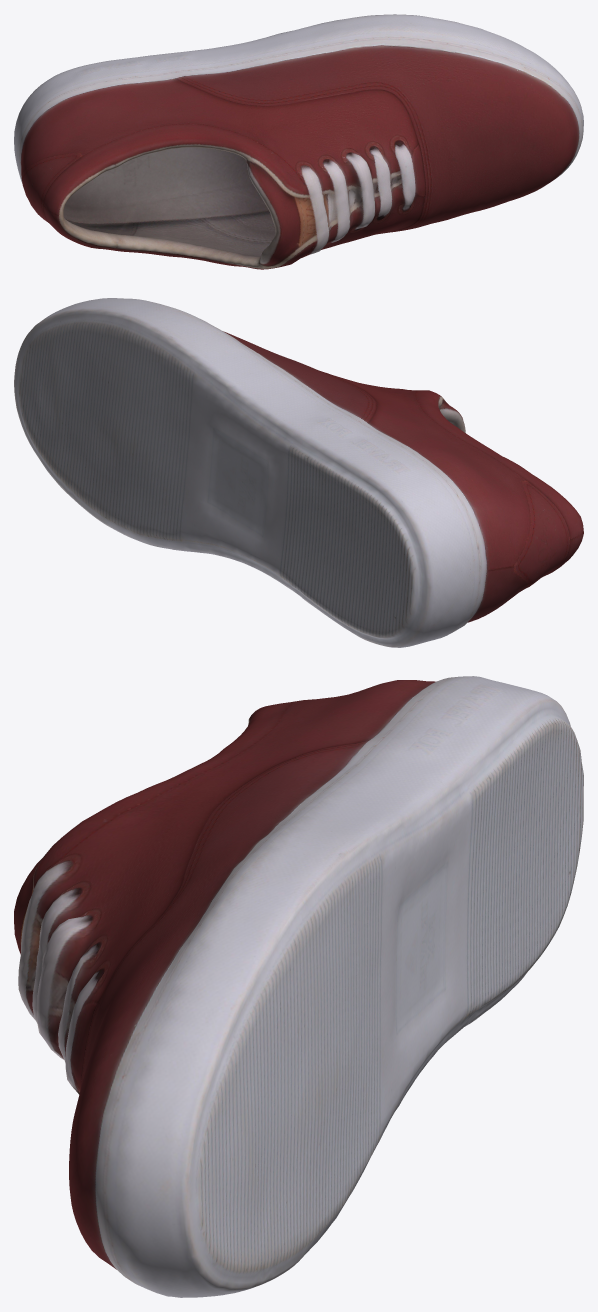
3 views of the same model, one above another, from view 1: azimuth 30°, elevation 25°; view 2: azimuth 150°, elevation 25°; view 3: azimuth 270°, elevation 25° (orthographic). The views are drawn at different scales.
Parts seen in each view (by area): view 1: mmGroup0; view 2: mmGroup0; view 3: mmGroup0.
Part boxes in pixels (x1,y1,x2,y2): mmGroup0: (14,14,583,269); mmGroup0: (14,298,583,647); mmGroup0: (14,676,583,1297).
Bounding box in the file's own units: 364 × 132 × 189.
